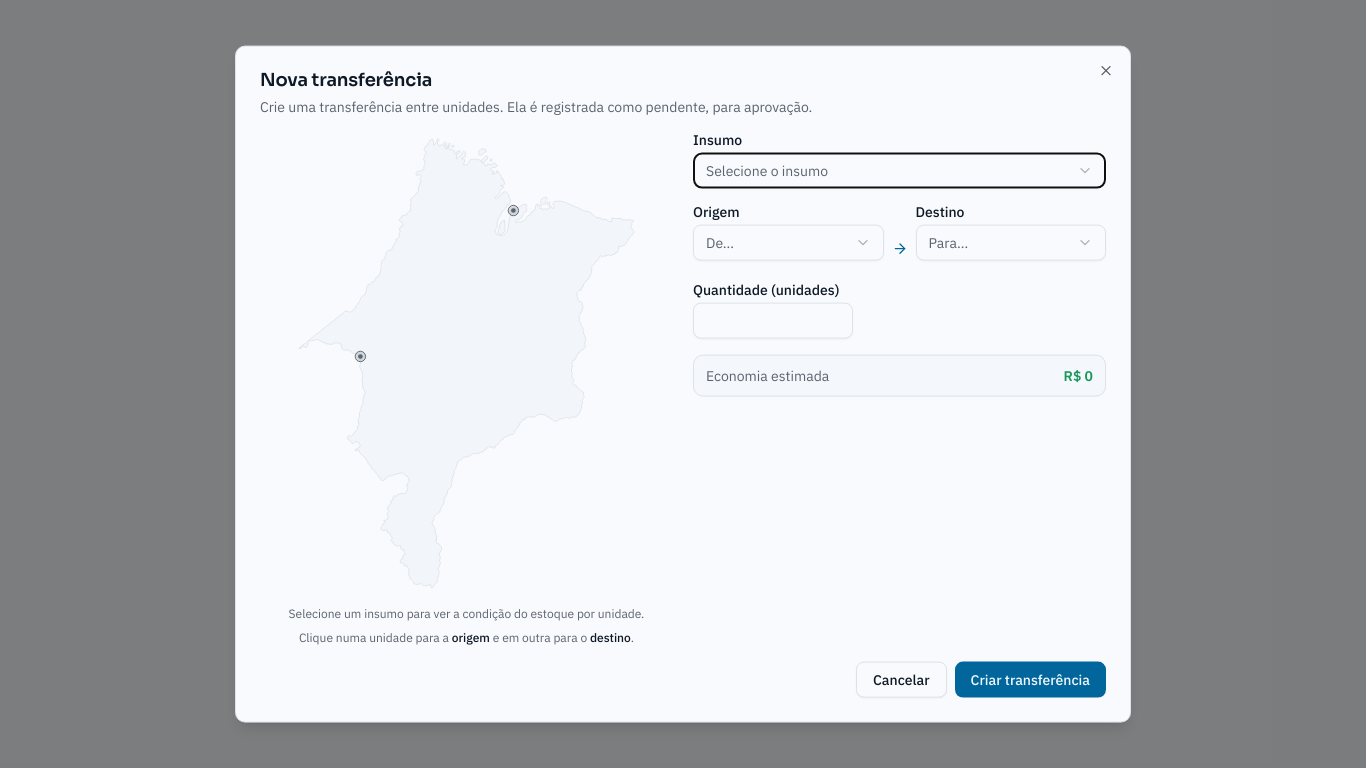
it: TransferenciaFormDialog › na criação, valida campos obrigatórios antes de enviar
Click the button "Criar transferência": (1030, 679) left=954, top=661, right=1106, bottom=697
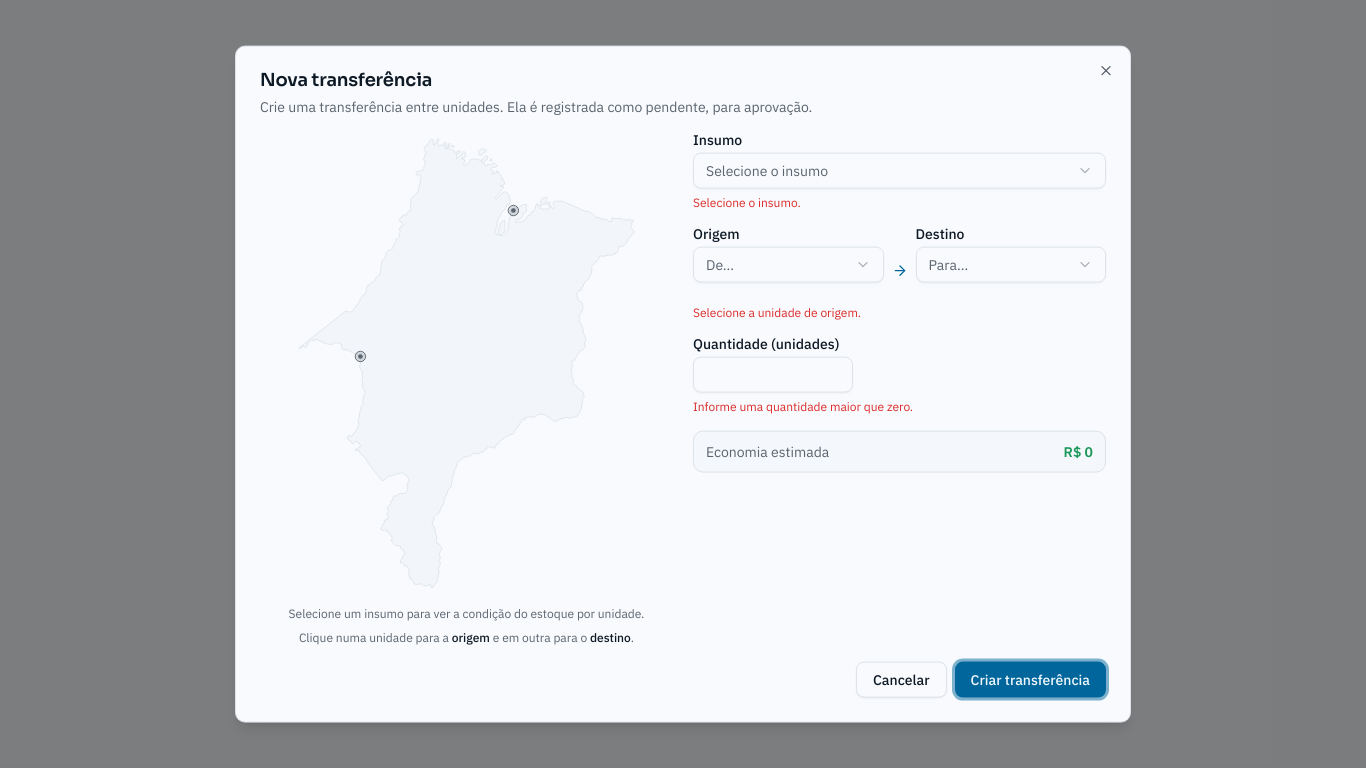
Expected: the text "Selecione o insumo." is shown, left=693, top=195, right=801, bottom=210
Expected: the text "Informe uma quantidade maior que zero." is shown, left=693, top=399, right=913, bottom=414
